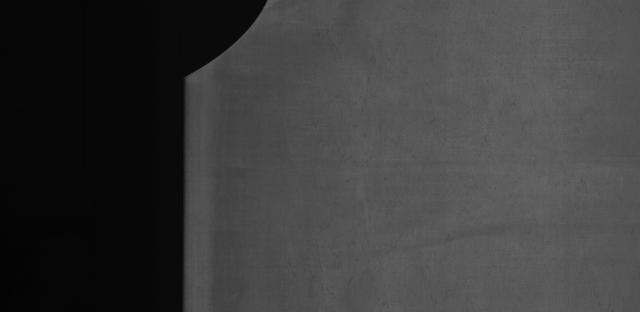crescent_gap: (168, 0, 286, 89)
